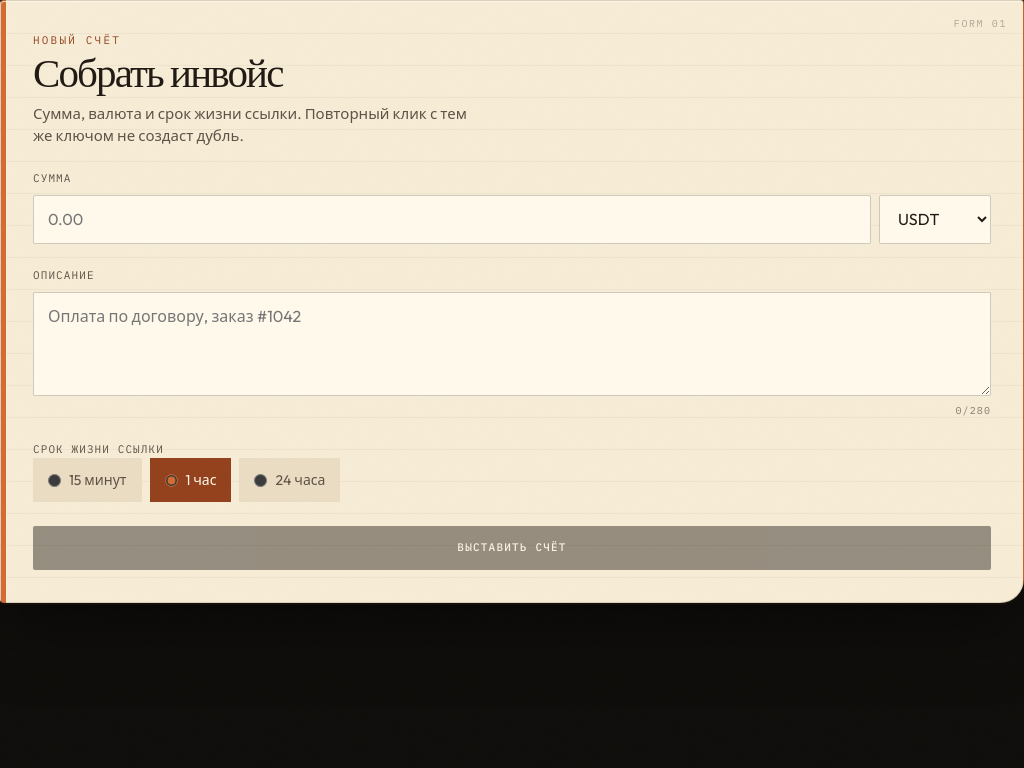
Test: InvoiceForm › shows a validation alert for a negative amount
In the field with placeholder "0.00": (452, 220) [33,195,871,244], type "-8"
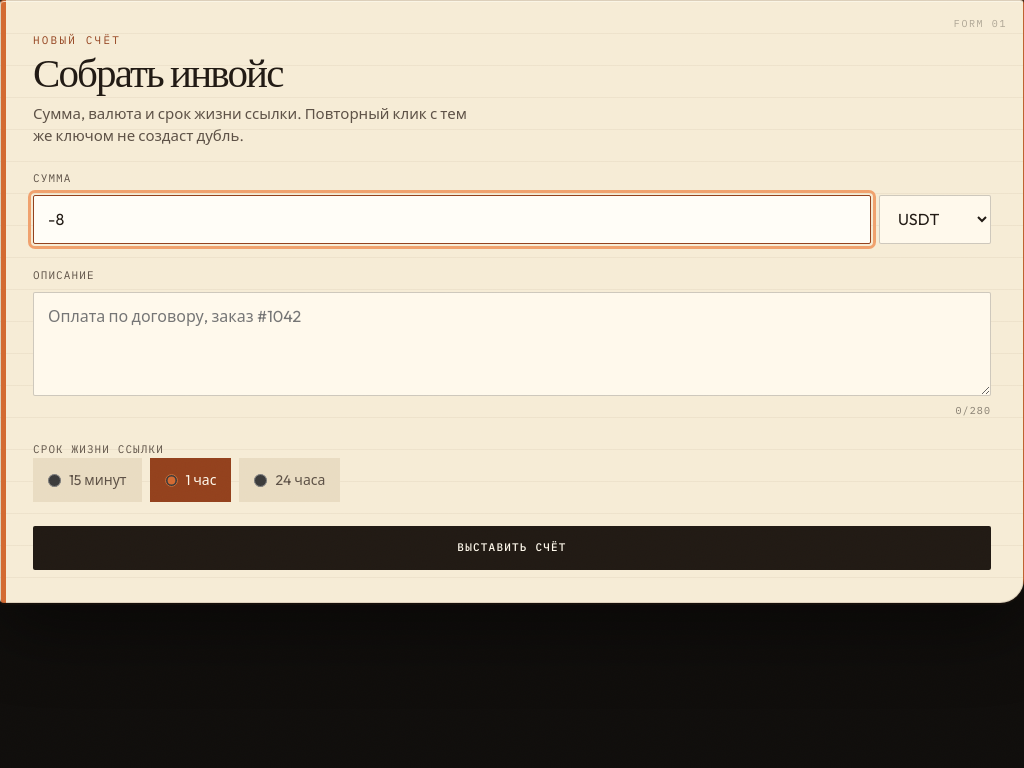
Click the button "Выставить счёт": (512, 548) [33,526,991,570]
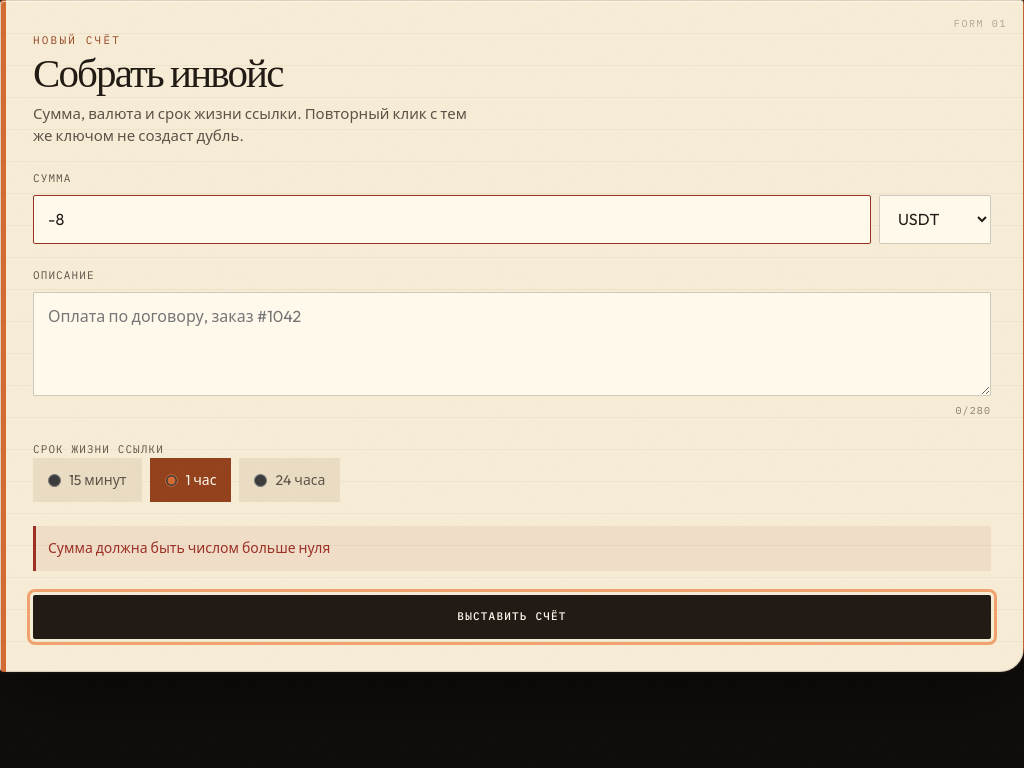
Now the message reads "Сумма должна быть числом больше нуля", box [48,539,330,557]
